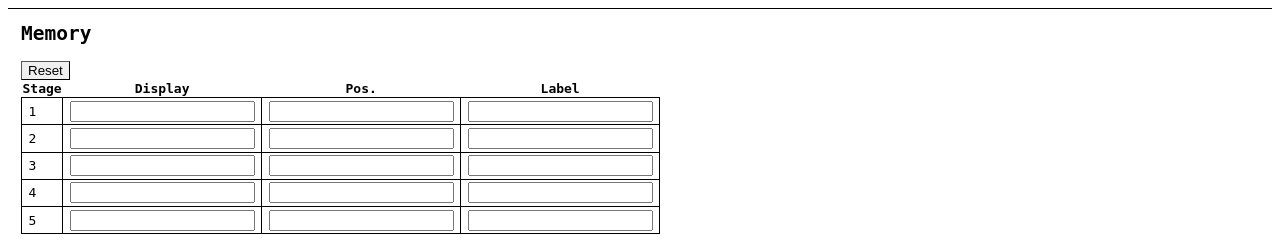
it: MemoryModule › limits input to single character
Type "123" into the field named "Stage 1 display".
click(162, 111); type("123")  # box [70,101,255,122]
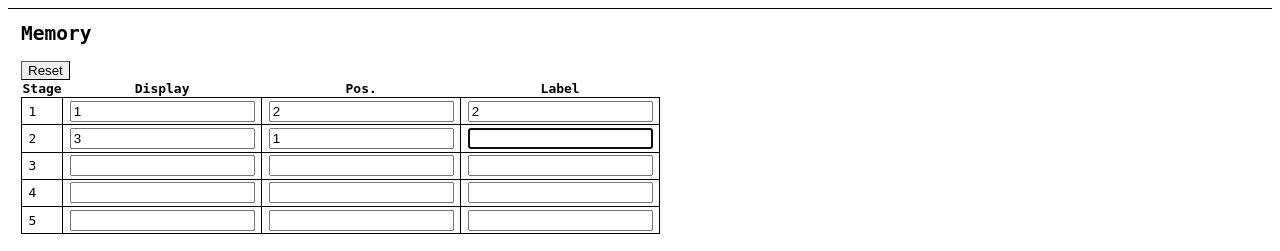
Now the field named "Stage 1 display" holds "1", box [70,101,255,122]
